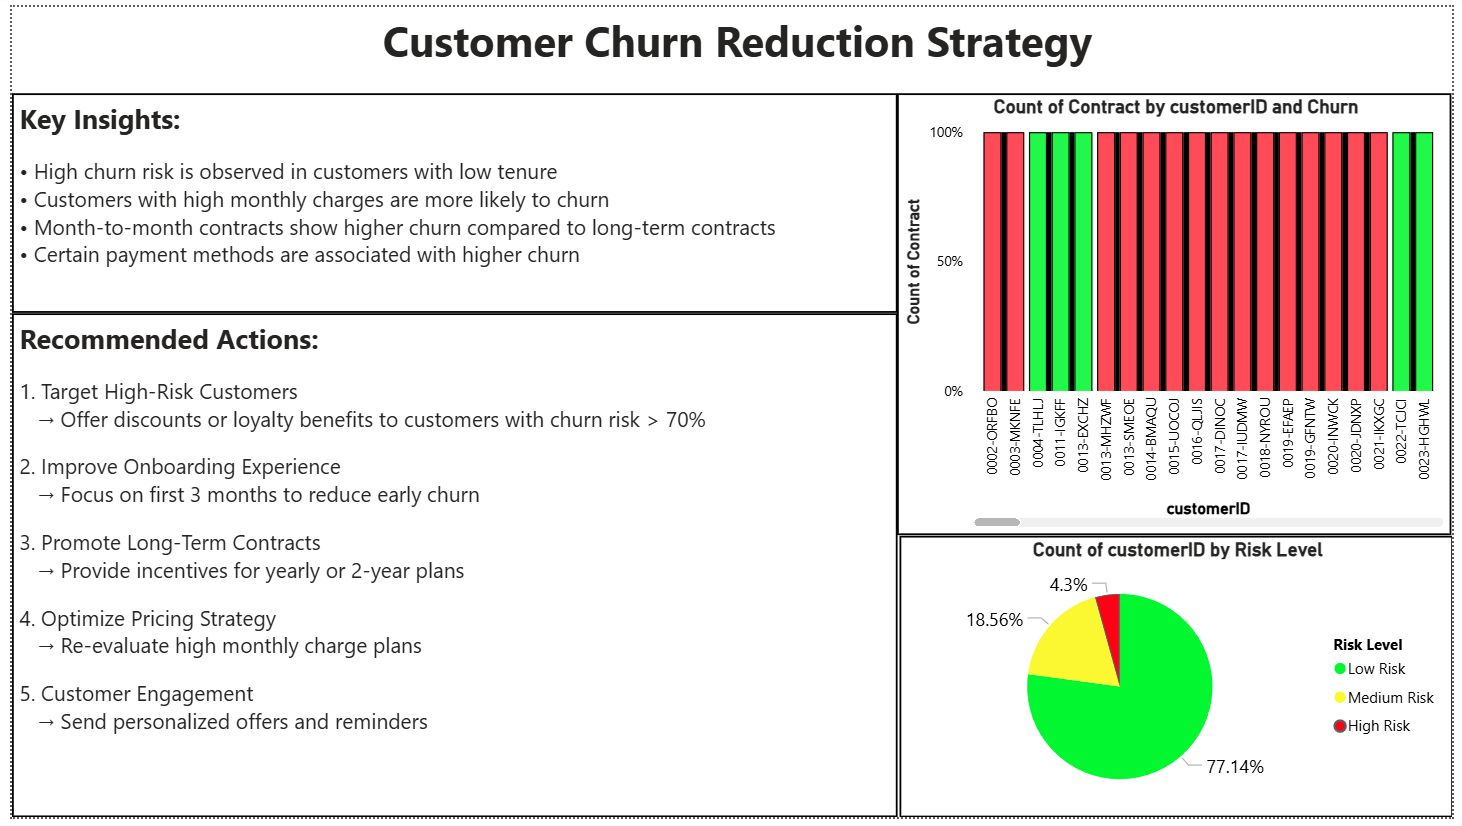

The page's visual inventory and layout, read from the dashboard file:
{"tool":"powerbi","page":{"name":"Business Recommendations","canvas":[1280,720],"ordinal":3},"visuals":[{"type":"textbox","box":[10.5,0,1269.8,76.7],"z":0},{"type":"textbox","box":[0,76.7,787.2,195.3],"z":1000},{"type":"textbox","box":[0,272.1,787.2,447.7],"z":2000},{"type":"hundredPercentStackedColumnChart","fields":{"Category":["Telco-Customer-Churn.customerID"],"Y":["CountNonNull(Telco-Customer-Churn.Contract)"],"Series":["Telco-Customer-Churn.Churn"]},"box":[787.2,76.7,493,393],"z":3000},{"type":"pieChart","fields":{"Category":["churn_output.Risk Level"],"Y":["CountNonNull(churn_output.customerID)"]},"box":[788.4,469.8,491.9,250],"z":4000}]}

Visuals, with their boxes in screenshot pixels (x1, y1, x2, y2), scaled from the page's 1280x720 canvas onto the 1462x826 screenshot:
textbox: detection(12, 0, 1461, 88)
textbox: detection(0, 88, 899, 312)
textbox: detection(0, 312, 899, 825)
hundredPercentStackedColumnChart - Telco-Customer-Churn.customerID x CountNonNull(Telco-Customer-Churn.Contract): detection(899, 88, 1461, 539)
pieChart - churn_output.Risk Level x CountNonNull(churn_output.customerID): detection(901, 539, 1461, 825)
